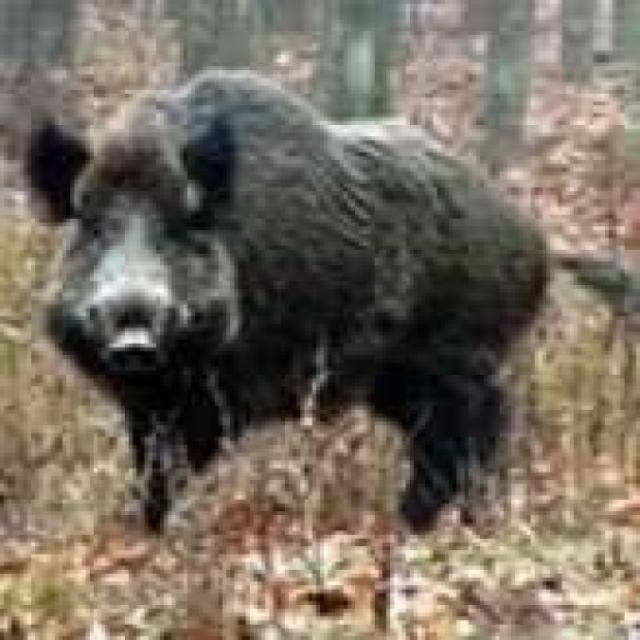pig: (33, 69, 625, 511)
